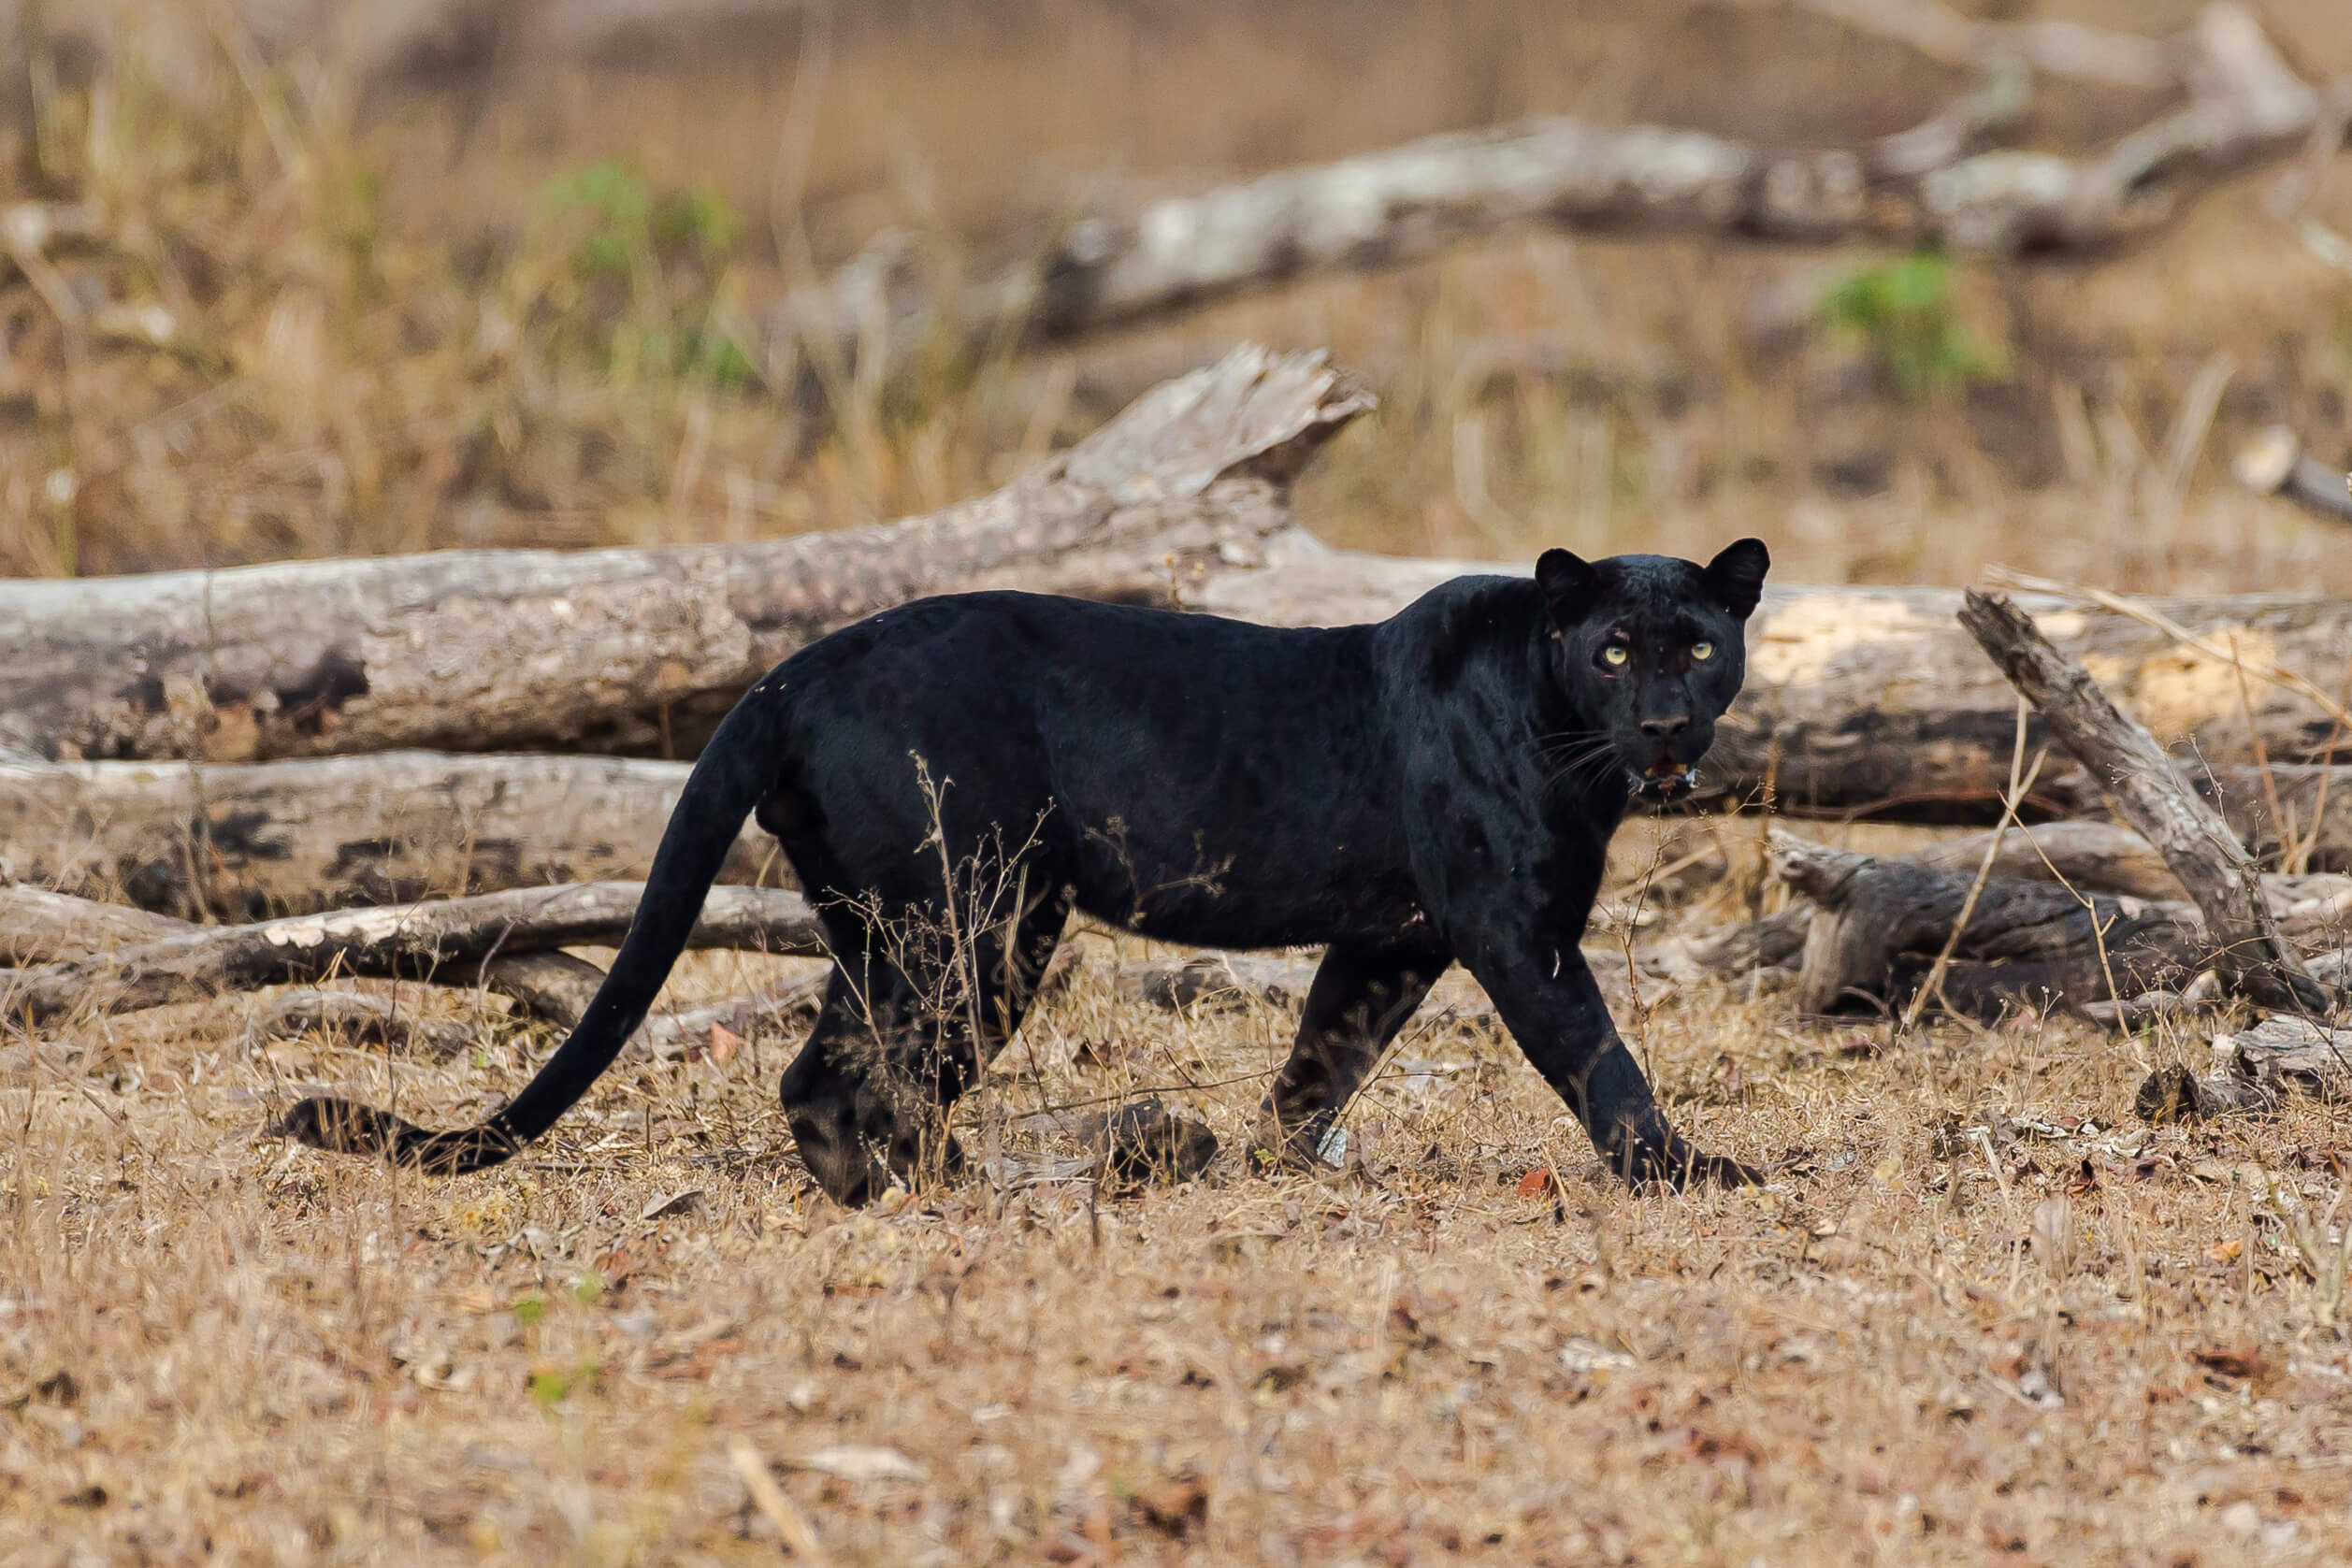panther: (255, 539, 1792, 1204)
